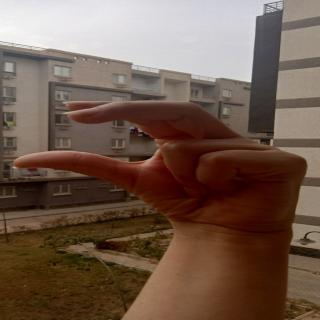DHELL: (15, 97, 318, 218)
